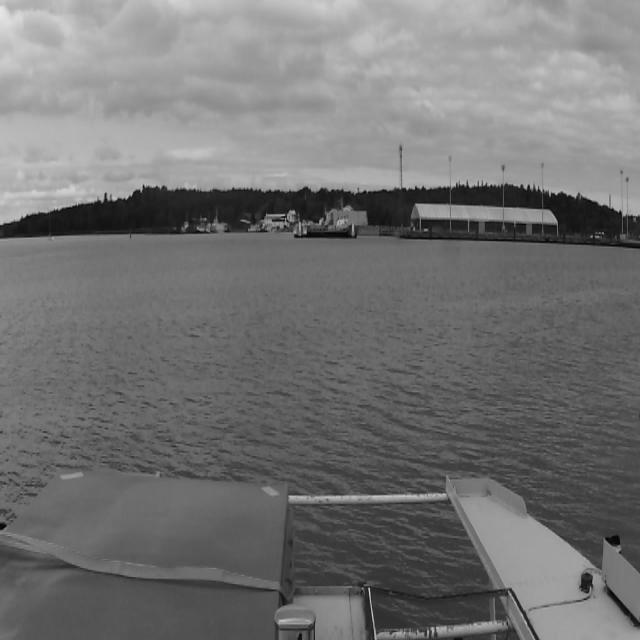ship: (292, 194, 353, 240), (308, 212, 350, 235), (211, 216, 227, 233), (197, 216, 210, 234), (181, 221, 192, 234), (170, 226, 180, 234)
